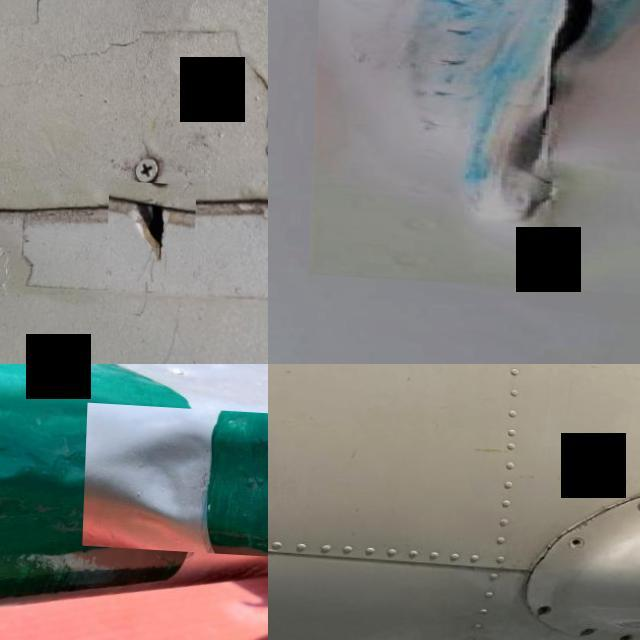Crack: (313, 0, 640, 295), (108, 176, 198, 280), (526, 504, 569, 580), (564, 496, 622, 534)
Dent: (84, 399, 268, 553)
Missing_Fastener: (621, 627, 640, 636), (572, 532, 585, 544), (542, 601, 554, 610)
